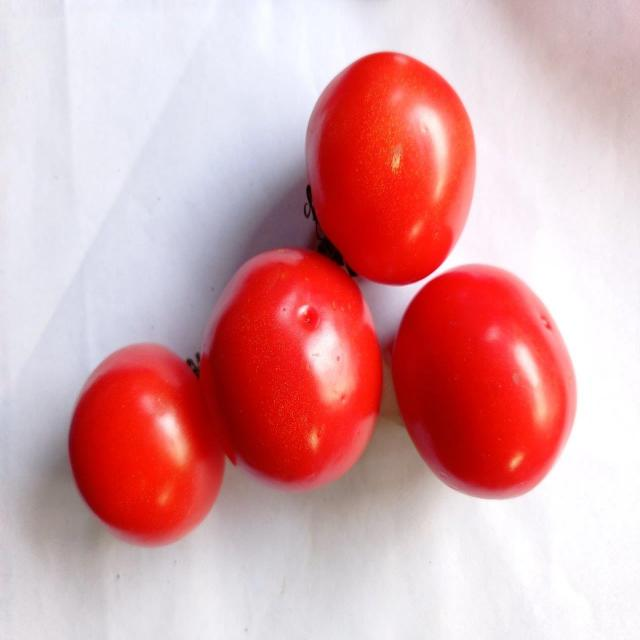Ripe: (388, 264, 578, 503), (204, 246, 384, 485), (302, 47, 478, 286), (64, 336, 225, 548)
